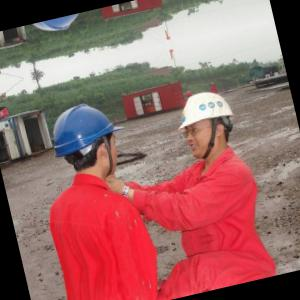helmet: (34, 87, 138, 188), (164, 76, 248, 164), (15, 9, 105, 49)
